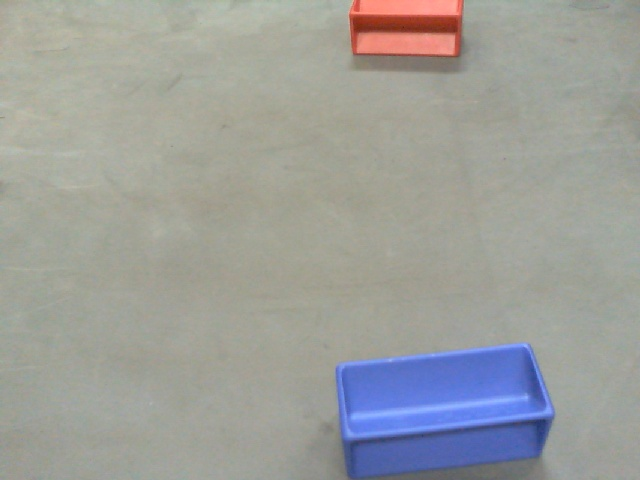BlueSample: (336, 341, 556, 478)
RedSample: (348, 1, 465, 58)
